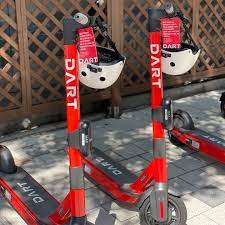kick_handler: (59, 15, 95, 40), (145, 9, 177, 30)
kick_neck: (148, 34, 173, 177), (62, 47, 80, 203)
kick_wheel: (139, 188, 187, 224)
